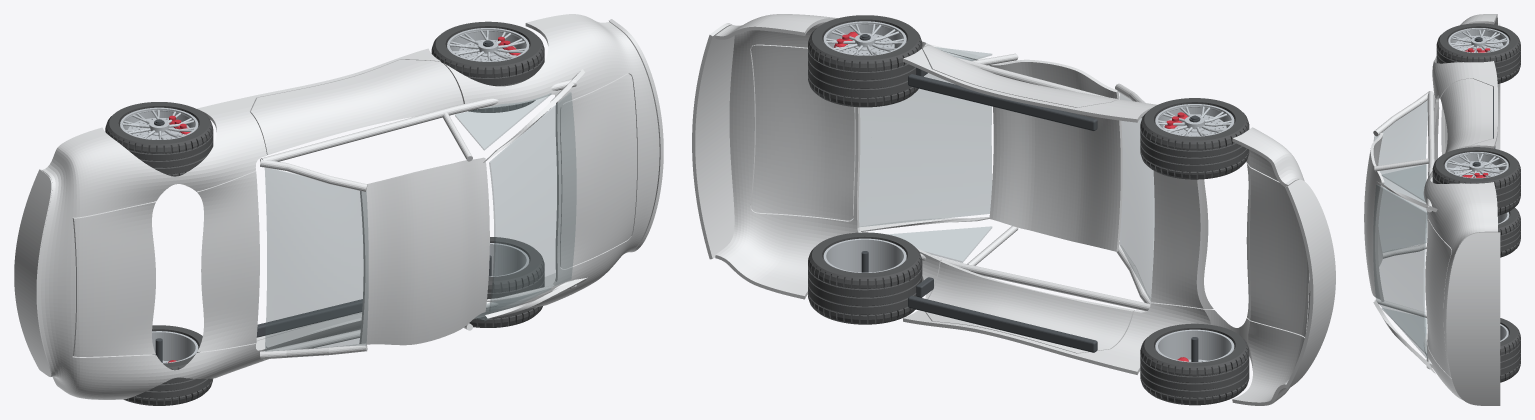
Rendered from 0d1a6373-dbb5-4828-84f1-e72cc0331a0d-assembly_blockout.glb.
3 renders of one model, left to right at view 1: azimuth 30°, elevation 25°; view 2: azimuth 150°, elevation 25°; view 3: azimuth 270°, elevation 25°, orthographic. The views are drawn at different scales.
Visible parts, largest first — view 1: 01_body__0007, 02_front_cover__0000, 05_windscreen__0009, 06_rear_glass__0010, 03_rear_cover__0001, 04_door_right__0008, 10_tyre_front_right__0022, 10_tyre_rear_right__0032, 10_tyre_rear_left__0027, 10_tyre_front_left__0013, 07_quarter_glass_right__0012, 11_rim_rear_right__0033 (+6 smaller); view 2: 01_body__0007, 06_rear_glass__0010, 02_front_cover__0000, 03_rear_cover__0001, 04_door_left__0002, 10_tyre_rear_left__0027, 10_tyre_rear_right__0032, 10_tyre_front_left__0013, 10_tyre_front_right__0022, 05_windscreen__0009, 04_door_right__0008, 01_body__0003 (+6 smaller); view 3: 01_body__0007, 06_rear_glass__0010, 05_windscreen__0009, 04_door_right__0008, 03_rear_cover__0001, 10_tyre_front_right__0022, 10_tyre_rear_right__0032, 11_rim_rear_right__0033, 10_tyre_rear_left__0027, 11_rim_front_right__0023, 07_quarter_glass_right__0012, 07_quarter_glass_left__0011 (+4 smaller).
Boxes of the visible parts, <box> form: 01_body__0007: <box>14,14,663,399</box>; 02_front_cover__0000: <box>72,171,259,356</box>; 05_windscreen__0009: <box>265,168,368,351</box>; 06_rear_glass__0010: <box>489,92,576,311</box>; 03_rear_cover__0001: <box>560,73,636,268</box>; 04_door_right__0008: <box>250,59,463,154</box>; 10_tyre_front_right__0022: <box>105,102,213,176</box>; 10_tyre_rear_right__0032: <box>431,21,544,112</box>; 10_tyre_rear_left__0027: <box>469,237,544,327</box>; 10_tyre_front_left__0013: <box>123,325,212,405</box>; 07_quarter_glass_right__0012: <box>455,93,551,150</box>; 11_rim_rear_right__0033: <box>447,28,529,61</box>; 01_body__0007: <box>692,14,1335,405</box>; 06_rear_glass__0010: <box>852,56,991,226</box>; 02_front_cover__0000: <box>1151,164,1309,336</box>; 03_rear_cover__0001: <box>751,44,855,220</box>; 04_door_left__0002: <box>925,260,1134,353</box>; 10_tyre_rear_left__0027: <box>808,232,922,324</box>; 10_tyre_rear_right__0032: <box>808,15,922,107</box>; 10_tyre_front_left__0013: <box>1140,323,1249,405</box>; 10_tyre_front_right__0022: <box>1140,98,1249,179</box>; 05_windscreen__0009: <box>1119,93,1154,301</box>; 04_door_right__0008: <box>922,45,1120,107</box>; 01_body__0003: <box>908,295,1097,352</box>; 01_body__0007: <box>1364,14,1500,405</box>; 06_rear_glass__0010: <box>1373,185,1427,358</box>; 05_windscreen__0009: <box>1374,100,1427,252</box>; 04_door_right__0008: <box>1440,78,1492,152</box>; 03_rear_cover__0001: <box>1425,219,1451,377</box>; 10_tyre_front_right__0022: <box>1436,23,1520,83</box>; 10_tyre_rear_right__0032: <box>1432,147,1520,215</box>; 11_rim_rear_right__0033: <box>1444,152,1508,178</box>; 10_tyre_rear_left__0027: <box>1500,318,1520,382</box>; 11_rim_front_right__0023: <box>1448,28,1509,52</box>; 07_quarter_glass_right__0012: <box>1382,164,1426,202</box>; 07_quarter_glass_left__0011: <box>1382,308,1426,353</box>.
Size of the model in its own units: 4.61 by 1.91 by 1.31.
